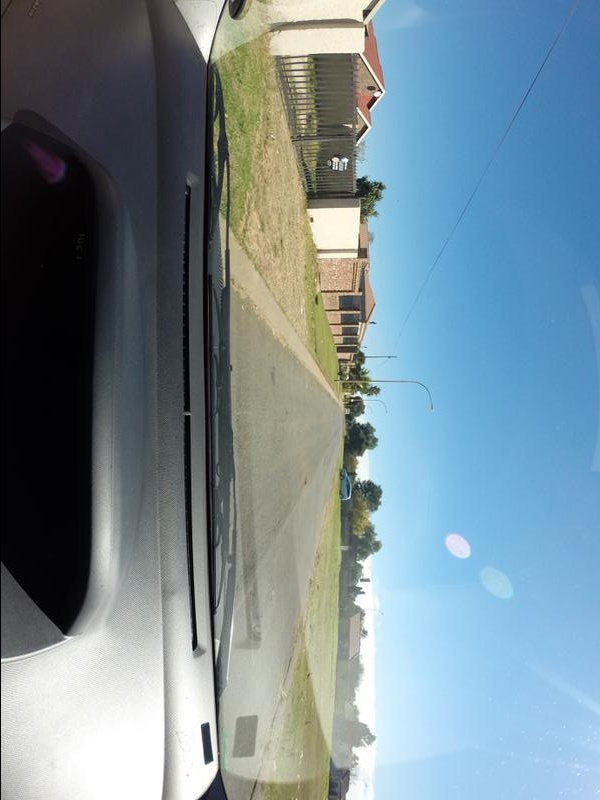pothole: (299, 478, 310, 481)
